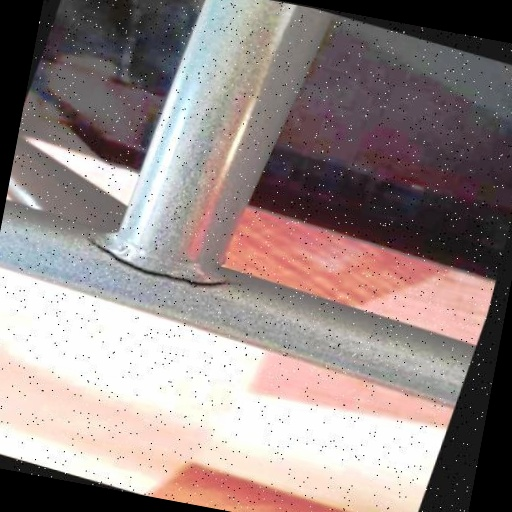crack: (61, 213, 254, 311)
